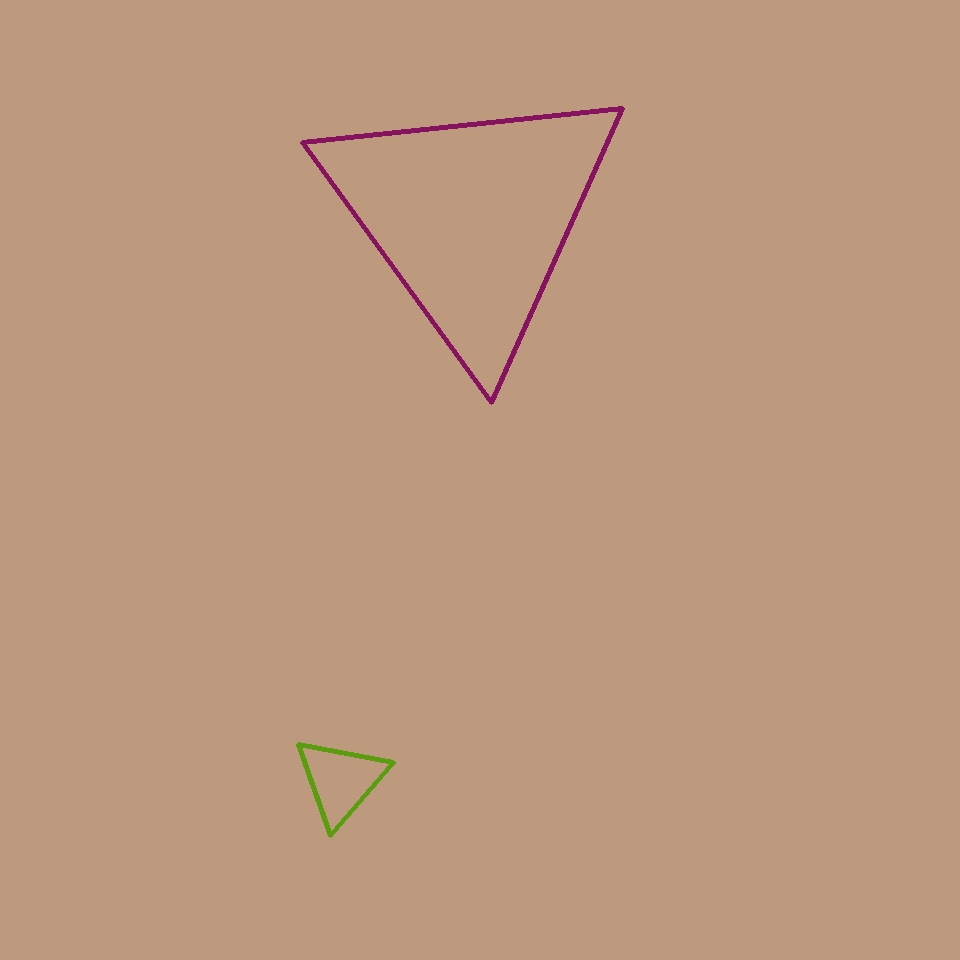circle: (312, 71, 632, 365), (294, 736, 389, 826)
